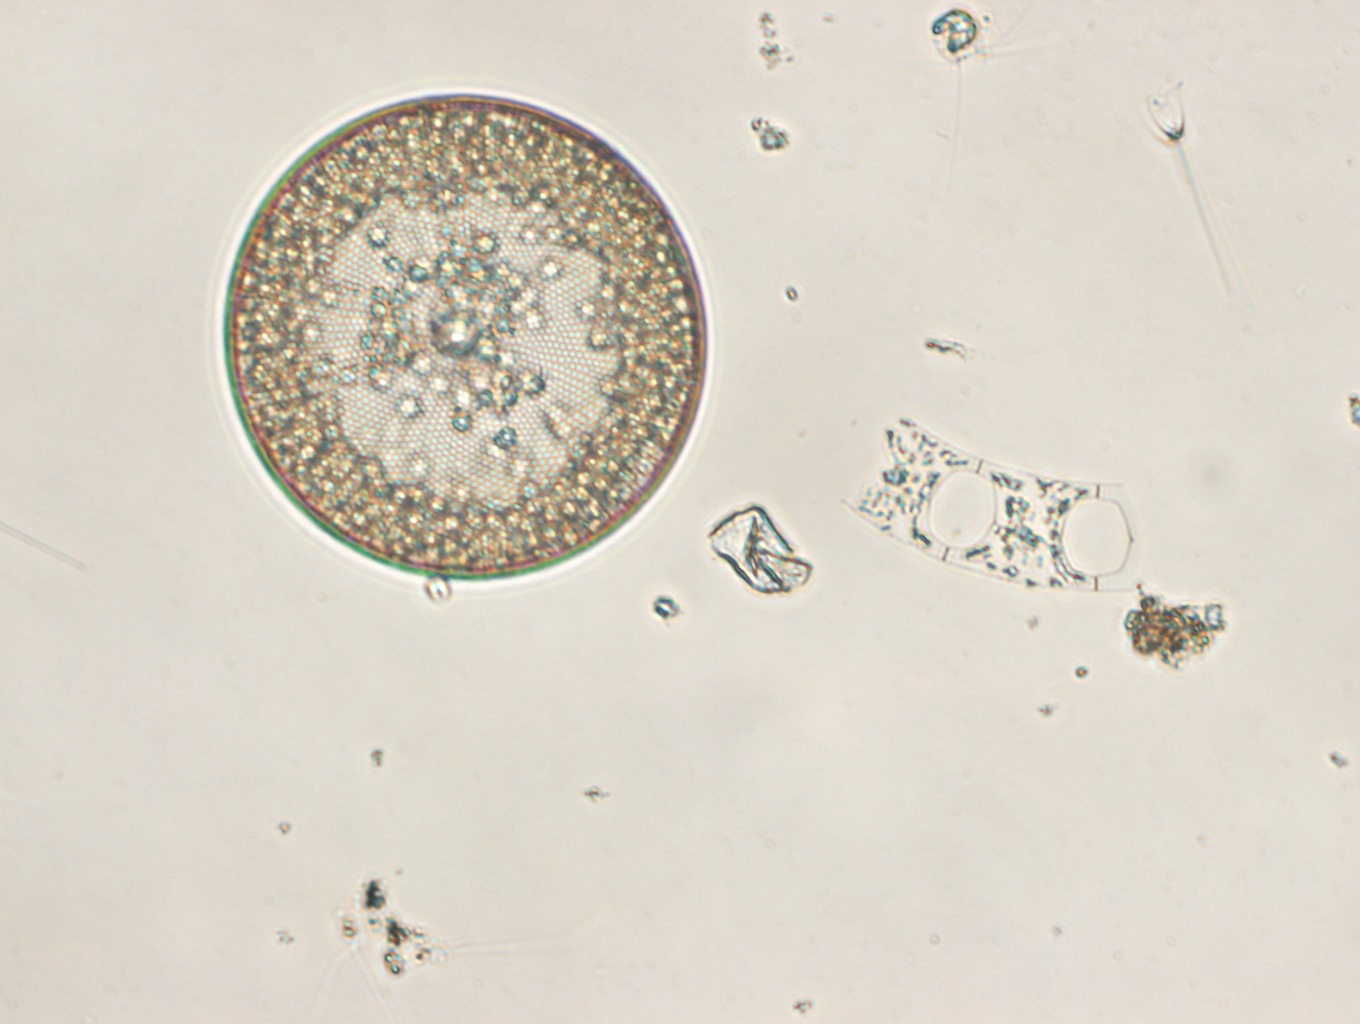coscinodiscus: (221, 93, 708, 583)
eucampia: (843, 419, 1131, 592)
